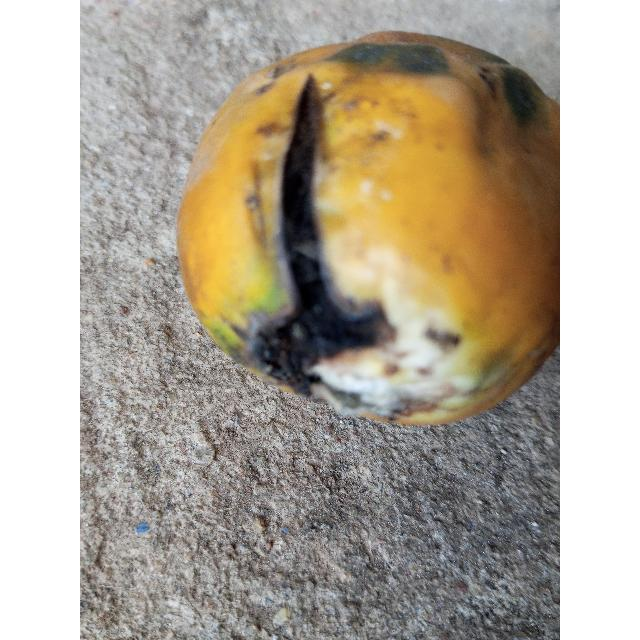damaged: (178, 32, 560, 424)
